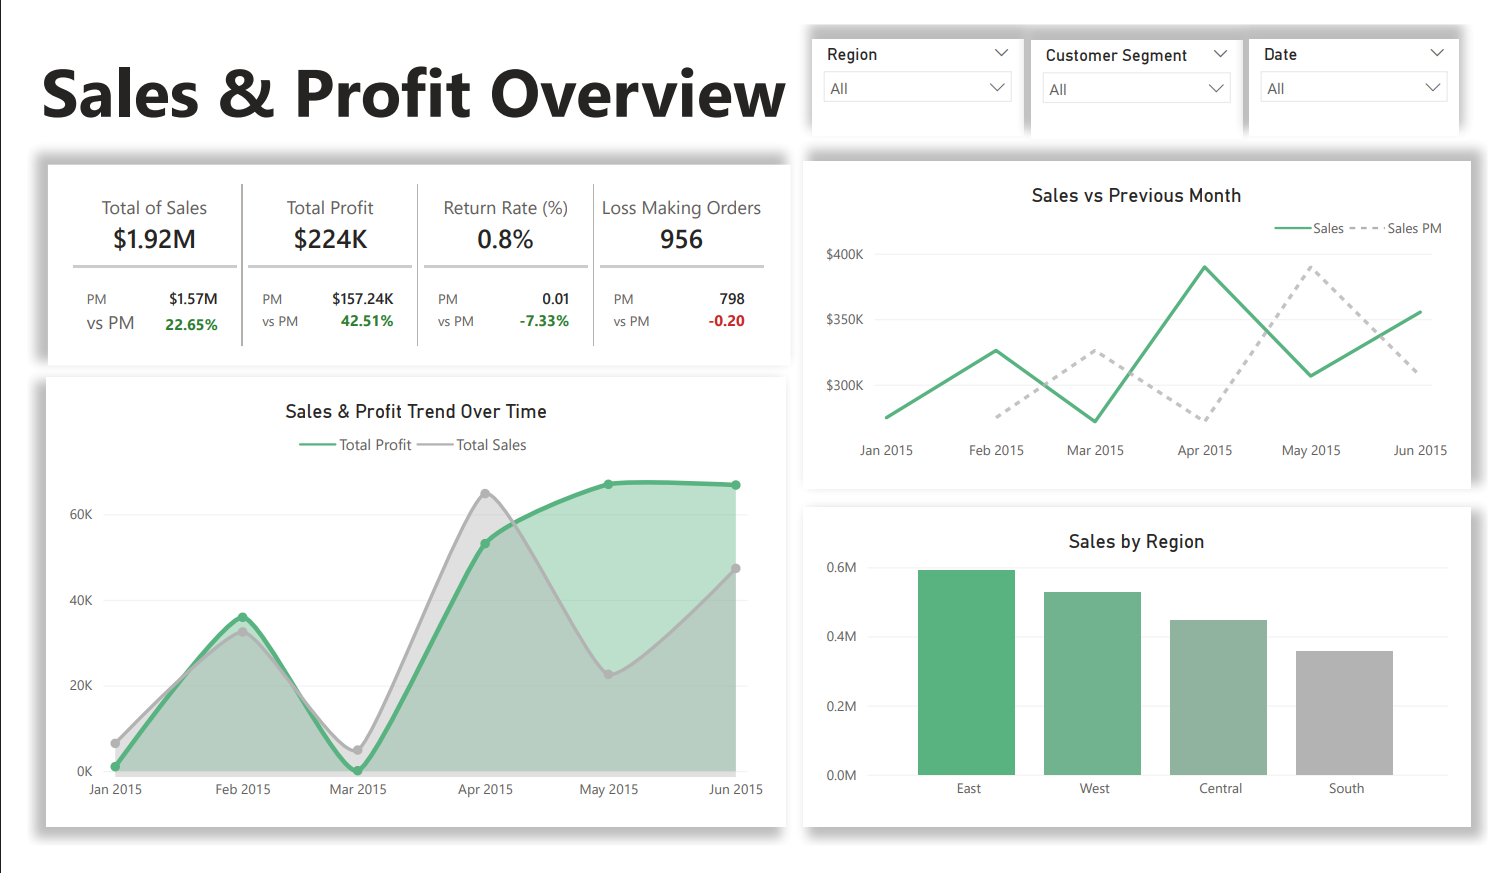

What the dashboard file says about the page in this screenshot:
{"tool":"powerbi","page":{"name":"Sales & Profit Overview","canvas":[1280,720],"ordinal":0},"visuals":[{"type":"textbox","box":[679.5,0,585.8,102.4],"z":0},{"type":"cardVisual","fields":{"Data":["Sum(Orders.Sales)","Orders.Total Profit","Orders.Return Rate (%)","Orders.Loss Making Orders"]},"box":[17.5,122.5,651.2,176.2],"z":1000},{"type":"lineChart","title":"Sales vs Previous Month","fields":{"Y":["Sum(Orders.Sales)","Measures (2).Sales PM"],"Category":["Date Table.Start of month"]},"box":[679.5,119.7,585.8,287.1],"z":2000},{"type":"slicer","fields":{"Values":["Orders.Region"]},"box":[688.2,13,184.7,85.1],"z":3000},{"type":"slicer","fields":{"Values":["Orders.Customer Segment"]},"box":[880.1,14.4,184.7,85.1],"z":4000},{"type":"lineChart","title":"Sales & Profit Trend Over Time ","fields":{"Category":["Orders.Order YearMonth.Variation.Date Hierarchy.Year","Orders.Order YearMonth.Variation.Date Hierarchy.Month"],"Y":["Orders.Total Profit"],"Y2":["Orders.Total Sales"]},"box":[17.3,308.8,647.8,393.9],"z":5000},{"type":"columnChart","title":"Sales by Region","fields":{"Category":["Orders.Region"],"Y":["Orders.Total Sales"]},"box":[679.5,422.7,585.8,279.9],"z":6000},{"type":"slicer","fields":{"Values":["Date Table.Date"]},"box":[1070.5,13,184.7,85.1],"z":7000},{"type":"textbox","box":[7.2,13,672.3,102.4],"z":8000}]}

Visuals, with their boxes in screenshot pixels (x1, y1, x2, y2), scaled from the page's 1280x720 canvas onto the 1510x873 screenshot:
textbox: (802,0,1493,124)
cardVisual - Sum(Orders.Sales) x Orders.Total Profit: (21,149,789,362)
"Sales vs Previous Month" lineChart: (802,145,1493,493)
slicer - Orders.Region: (812,16,1030,119)
slicer - Orders.Customer Segment: (1038,17,1256,121)
"Sales & Profit Trend Over Time " lineChart: (20,374,785,852)
"Sales by Region" columnChart: (802,513,1493,852)
slicer - Date Table.Date: (1263,16,1481,119)
textbox: (8,16,802,140)
